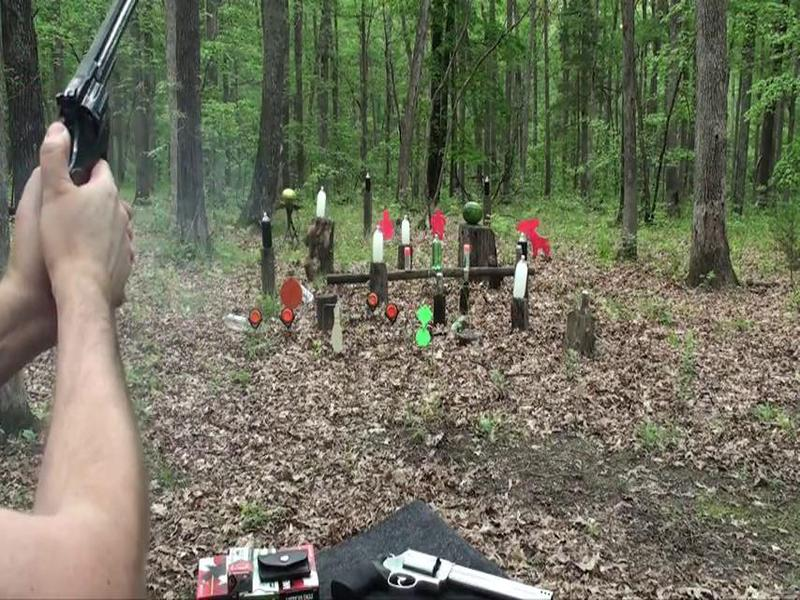Revolver: (38, 1, 152, 229)
